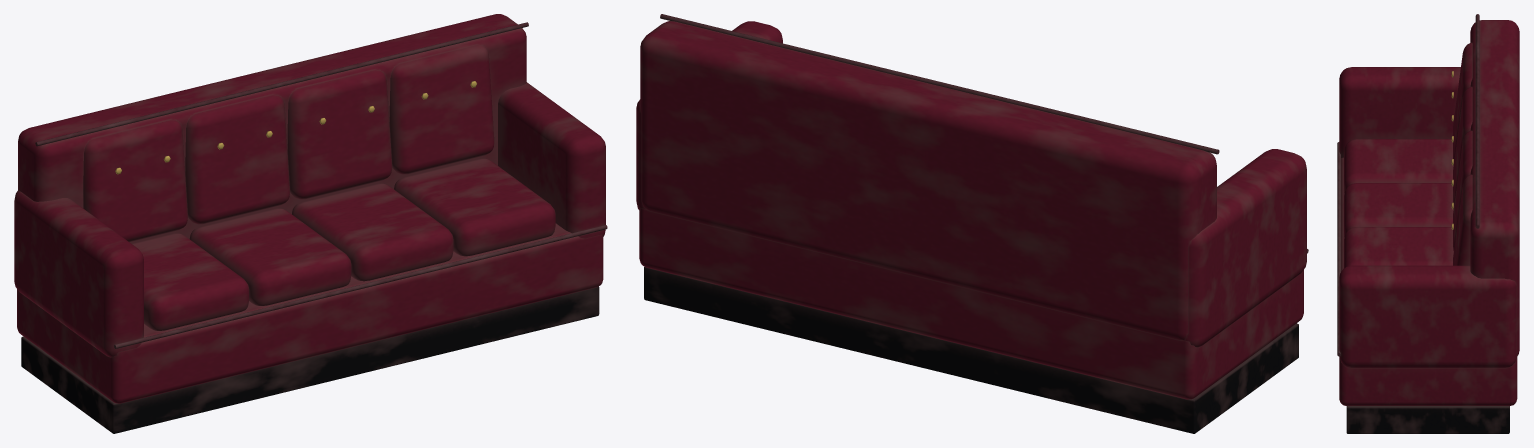
Rendered from klub_kanapa.glb.
3 views of the same model, side by side, from view 1: azimuth 30°, elevation 25°; view 2: azimuth 150°, elevation 25°; view 3: azimuth 270°, elevation 25° (orthographic). The views are drawn at different scales.
Parts seen in each view (by area): view 1: Kanapa; view 2: Kanapa; view 3: Kanapa.
Boxes of the visible parts, x1,y1,x2,y2 form: Kanapa: [14, 14, 607, 433]; Kanapa: [636, 14, 1308, 433]; Kanapa: [1337, 14, 1519, 433].
Size of the model in its own units: 2.06 by 0.938 by 0.738.
Materials: 1 (1 with a texture image).
